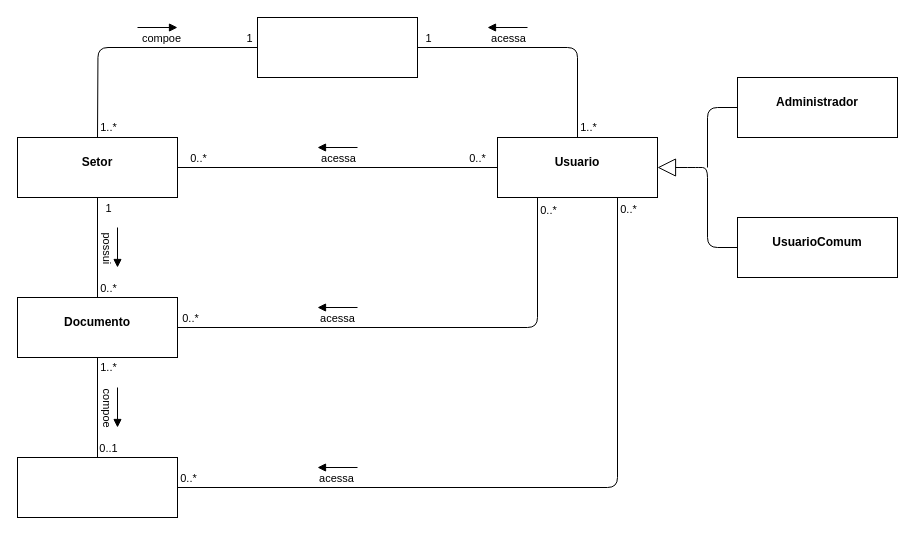
Some shapes in this 915 by 535 pixel diagram are drawn without their labels. Each missing label, with the box of its shape:
Arquivo: (256, 16, 418, 78)
Processo: (16, 456, 178, 518)
